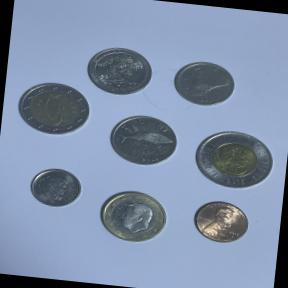coin: (186, 124, 280, 196), (90, 184, 177, 253), (12, 76, 96, 141), (102, 108, 182, 172), (83, 41, 158, 100), (185, 194, 256, 252), (24, 161, 88, 214)
